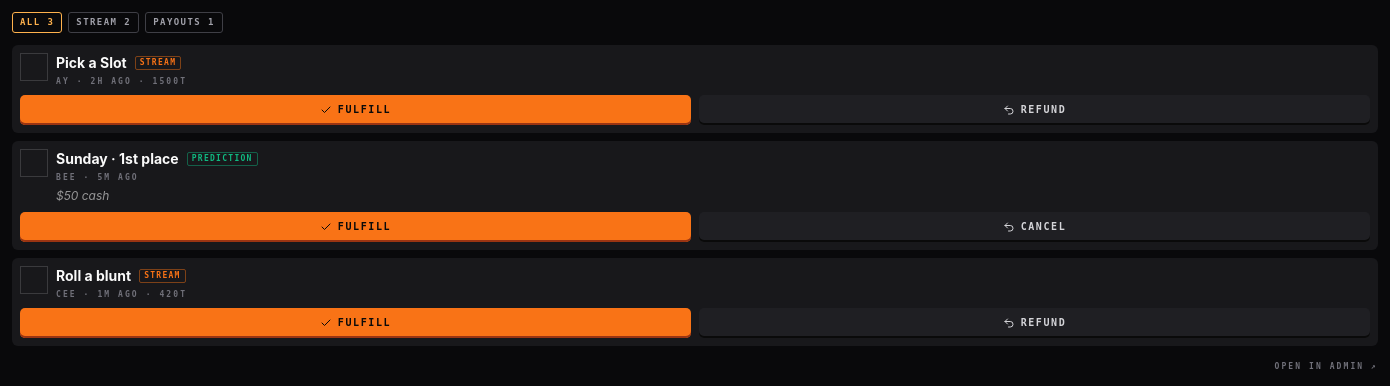
it: pressing Fulfill disarms an armed Refund
Click the 1st button "Refund". click: (1034,110)
box: [699,95,1370,125]
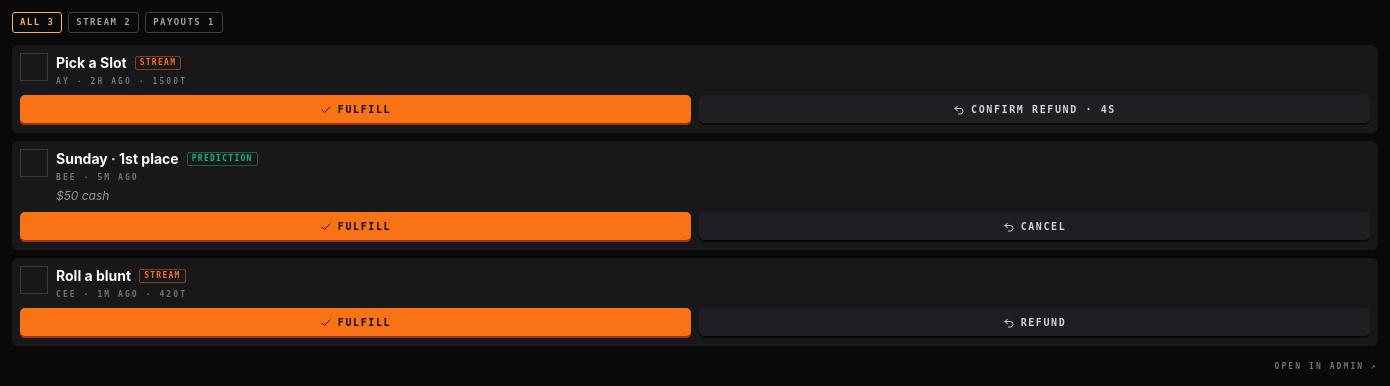
Click the 1st button "Fulfill". click: (356,110)
box: [20,95,691,125]
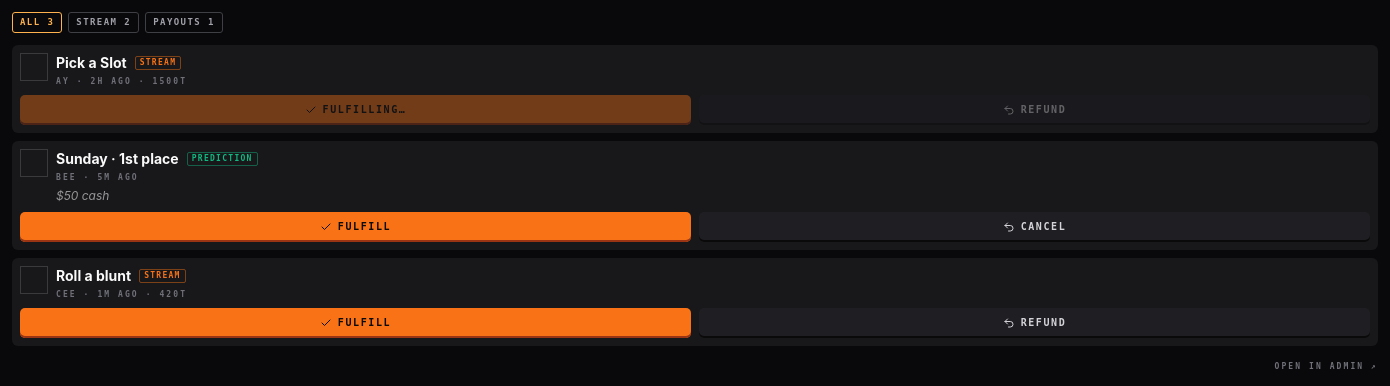
Expected: the 1st button "Refund" is disabled, [699,95,1370,125]
